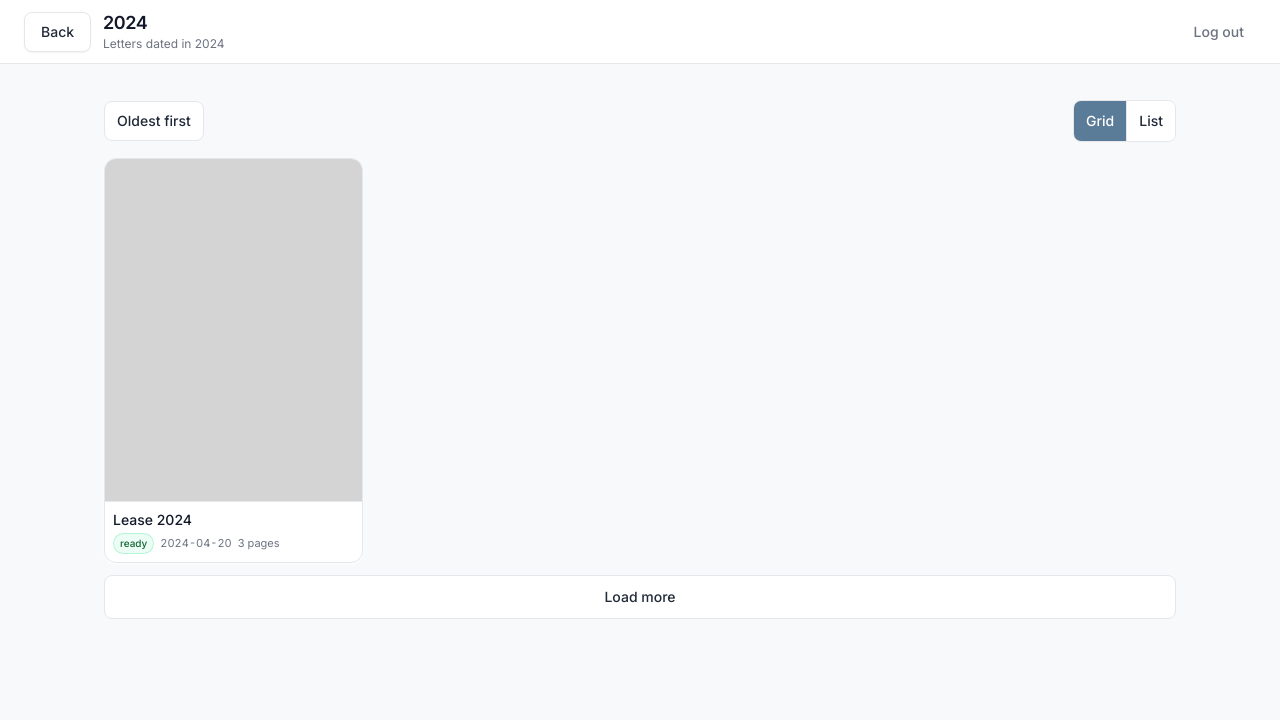
ExploreFolderView year folder › pages the folder with Load more
This screenshot has width=1280, height=720.
Expected: the text "Lease 2024" is shown, [113,511,192,528]
Click the button "Load more".
click(640, 597)  # box [104,575,1176,619]
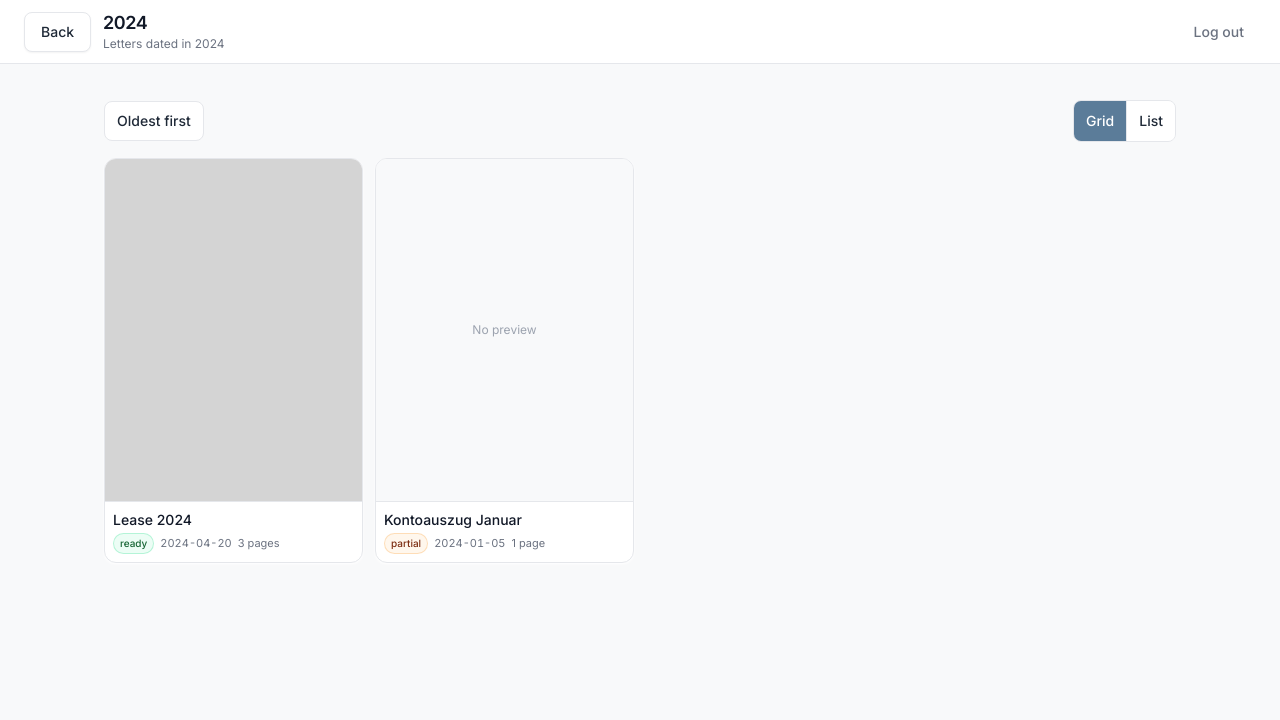
Expected: the text "Kontoauszug Januar" is shown, [384,511,522,528]
Expected: the button "Load more" is gone
